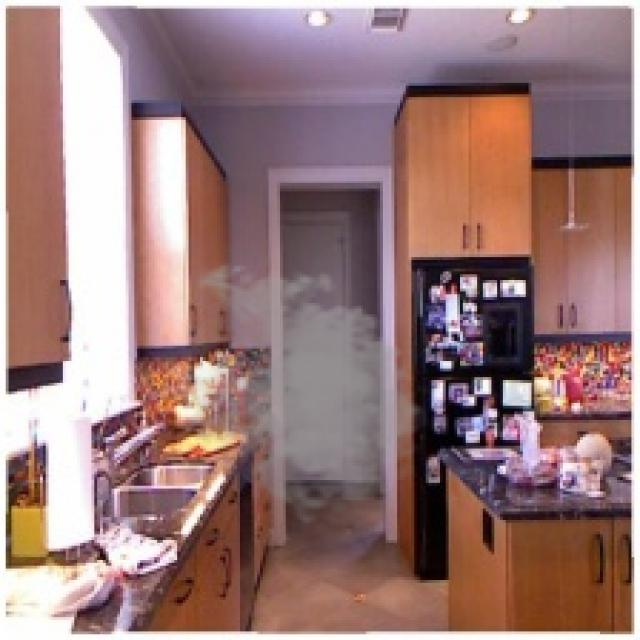smoke: (160, 257, 431, 529)
